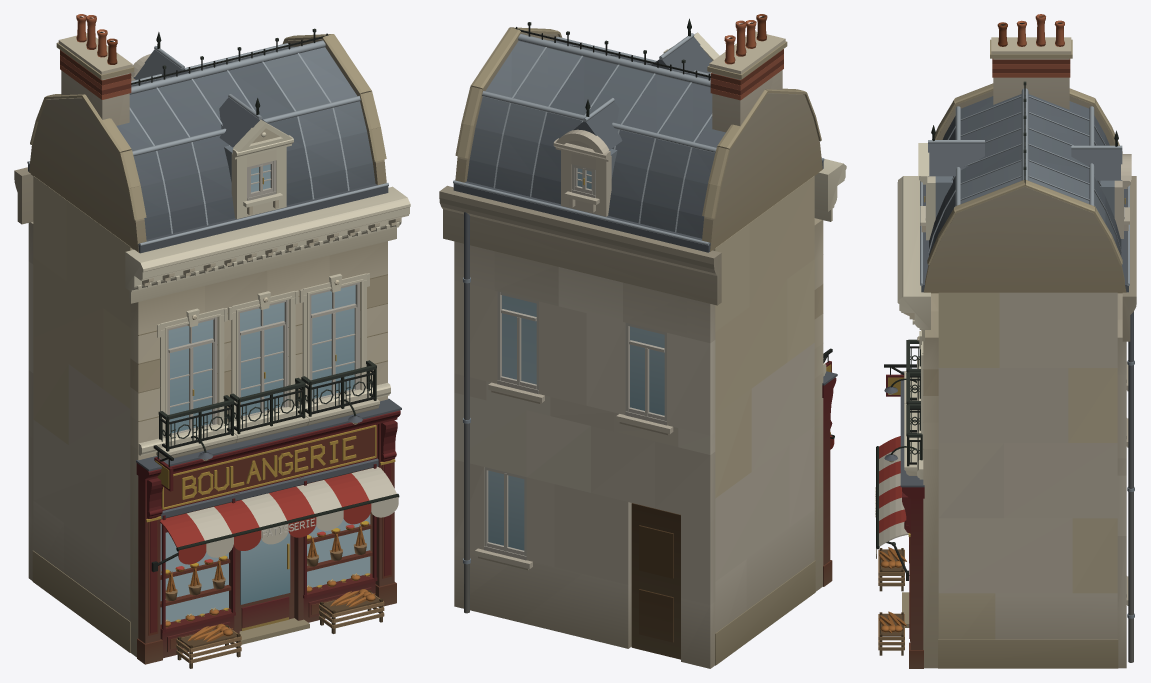
Rendered from boulangerie-01.glb.
3 views of the same model, side by side, from view 1: azimuth 30°, elevation 25°; view 2: azimuth 150°, elevation 25°; view 3: azimuth 270°, elevation 25° (orthographic). The views are drawn at different scales.
Parts seen in each view (by area): view 1: boulangerie_01; view 2: boulangerie_01; view 3: boulangerie_01.
Boxes of the visible parts, x1,y1,x2,y2 form: boulangerie_01: (14,14,410,668); boulangerie_01: (439,14,846,668); boulangerie_01: (875,14,1136,668).
Bounding box in the file's own units: 4.5 × 9.52 × 4.12.
